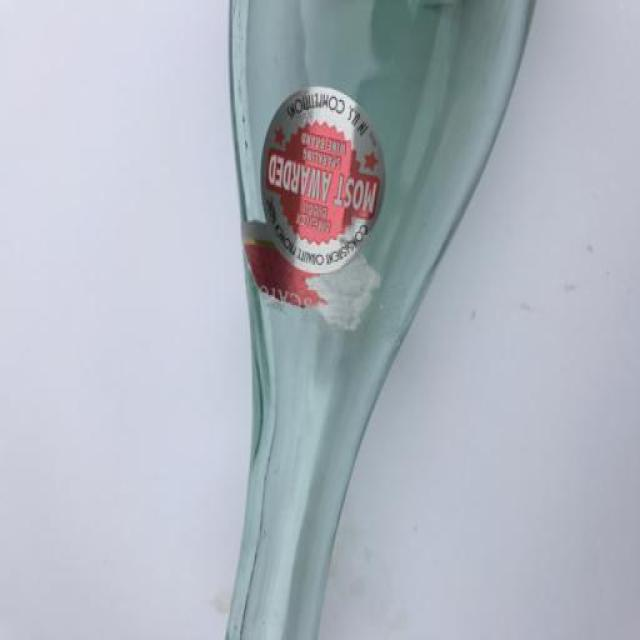glass bottle: (222, 0, 538, 640)
